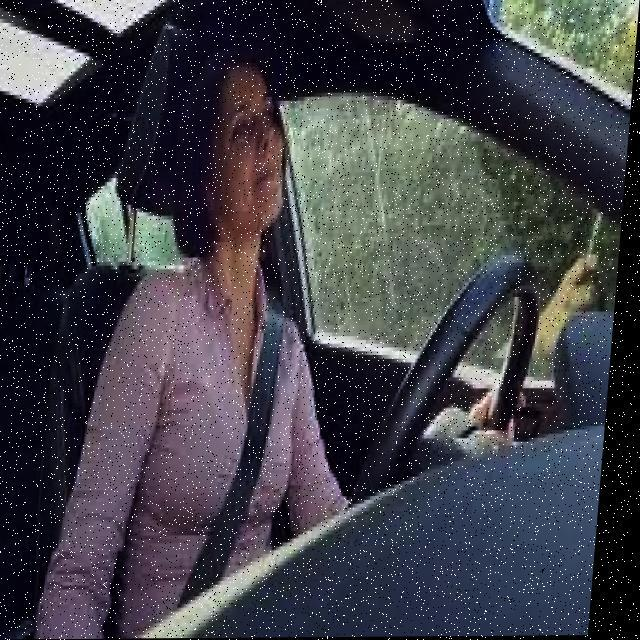seatbelt: (130, 257, 340, 615)
